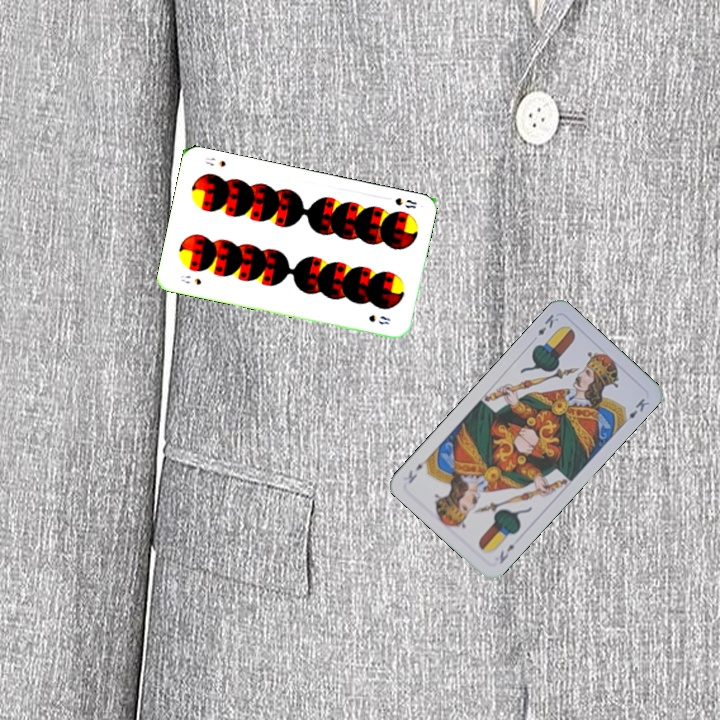EK: (533, 310, 561, 338), (495, 540, 517, 566)
S8: (391, 194, 419, 211), (176, 271, 204, 287)
